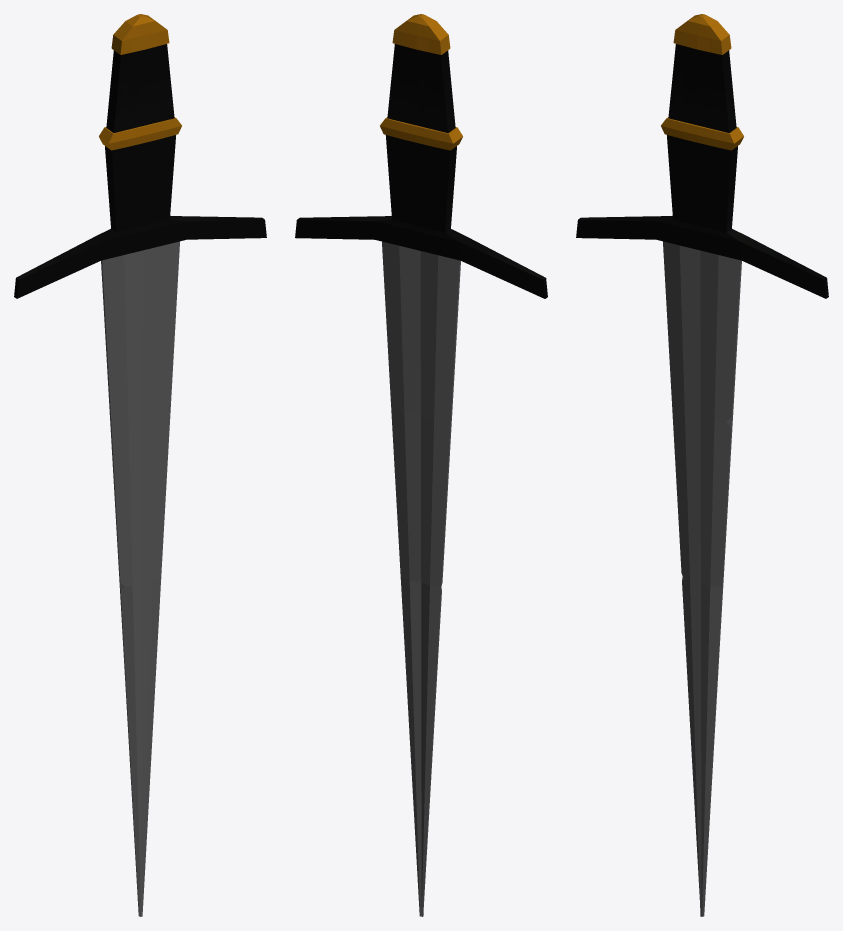
The model's file is Sword_01.fbx.
The picture shows the model from 3 angles, left to right: view 1: azimuth 30°, elevation 25°; view 2: azimuth 150°, elevation 25°; view 3: azimuth 330°, elevation 25°; orthographic projection.
Visible parts, largest first — view 1: Sword_01; view 2: Sword_01; view 3: Sword_01.
Part boxes in pixels (<box>): Sword_01: <box>14,14,266,916</box>; Sword_01: <box>295,14,547,916</box>; Sword_01: <box>576,14,828,916</box>.
Size of the model in its own units: 27.37 by 94.17 by 2.02.
